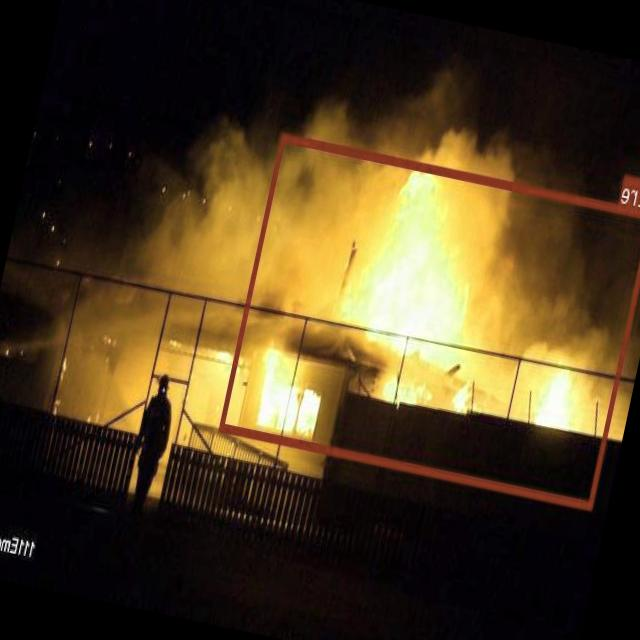fire: (219, 131, 640, 508)
